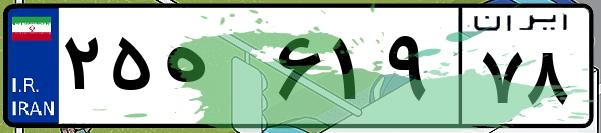1: (330, 28, 385, 110)
2: (57, 26, 110, 100)
5: (110, 28, 158, 98)
6: (270, 28, 330, 110)
7: (475, 38, 525, 113)
8: (525, 38, 570, 115)
9: (385, 28, 445, 110)
ه: (158, 20, 270, 120)
